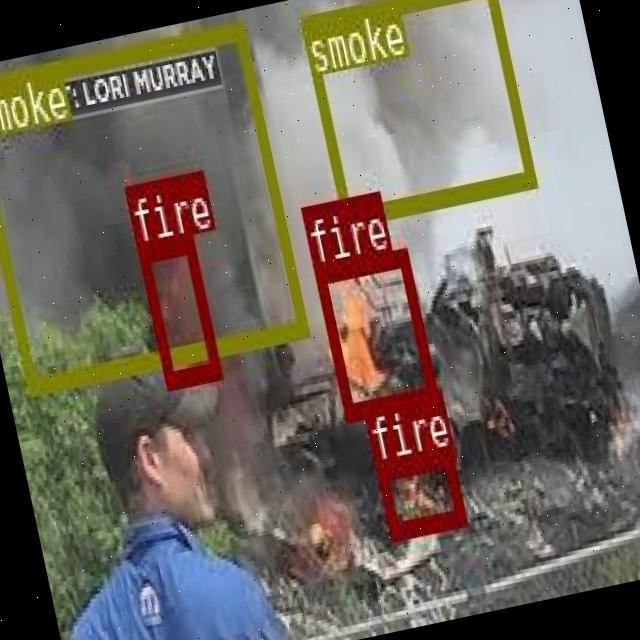fire: (312, 246, 438, 420), (134, 232, 220, 386), (373, 448, 464, 538)
smoke: (0, 21, 306, 391), (297, 0, 534, 224)
